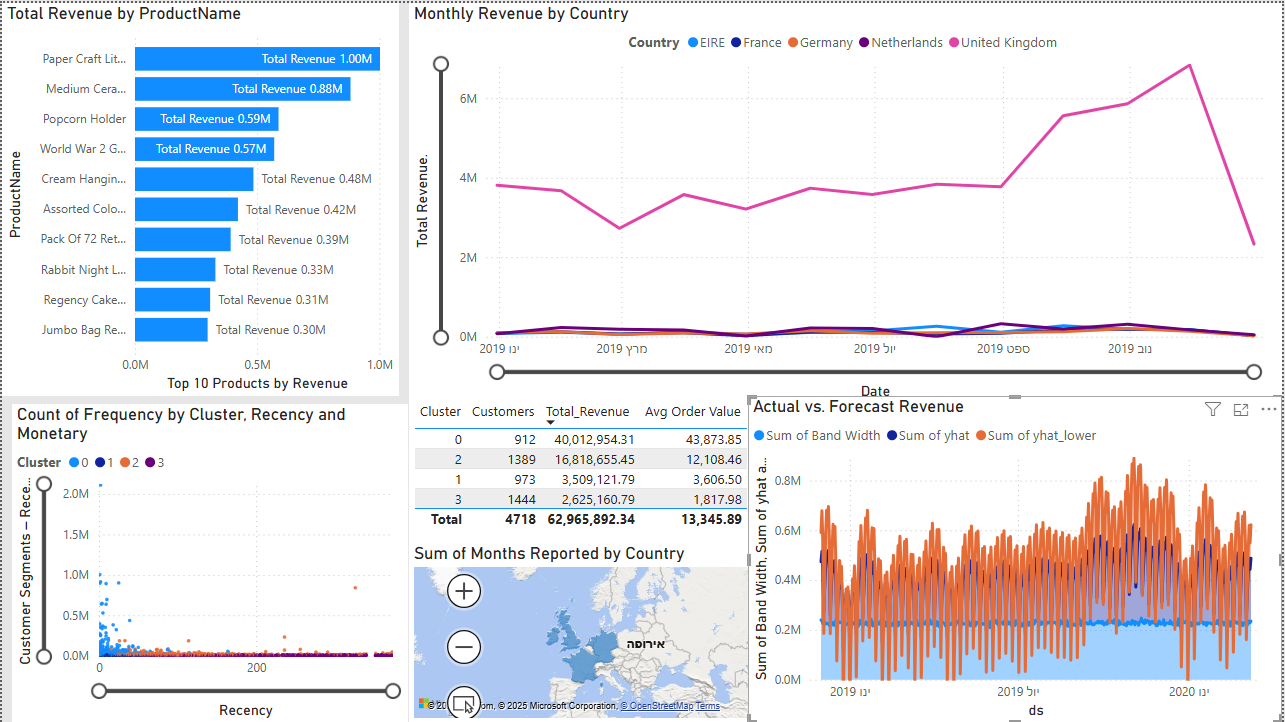

This screenshot's page, from the dashboard's own definition file:
{"tool":"powerbi","page":{"name":"Dashbord of Bussiness Analytics ","canvas":[1280,720],"ordinal":0},"visuals":[{"type":"clusteredBarChart","fields":{"Category":["product_revenue.ProductName"],"Y":["product_revenue.Total Revenue"]},"box":[0,0,396.7,393.1],"z":0},{"type":"lineChart","title":"Monthly Revenue by Country","fields":{"Series":["country_monthly_revenue.Country"],"Y":["country_monthly_revenue.Total Revenue."],"Category":["country_monthly_revenue.Date"]},"box":[406.6,0,873.4,400.7],"z":1000},{"type":"scatterChart","fields":{"X":["customer_segments.Recency"],"Y":["customer_segments.Monetary"],"Series":["customer_segments.Cluster"],"Size":["CountNonNull(customer_segments.Frequency)"]},"box":[9.7,400.7,395.9,319],"z":2000},{"type":"tableEx","fields":{"Values":["customer_segments.Cluster","customer_segments.Customers","customer_segments.Total_Revenue","customer_segments.Avg Order Value"]},"box":[406.6,392.9,346.3,146.9],"z":3000},{"type":"stackedAreaChart","title":"Actual vs. Forecast Revenue","fields":{"Category":["daily_revenue_forecast.ds"],"Y":["Sum(daily_revenue_forecast.Band Width)","Sum(daily_revenue_forecast.yhat)","Sum(daily_revenue_forecast.yhat_lower)"]},"box":[746,392.9,534,326.8],"z":4000},{"type":"filledMap","fields":{"Category":["Country Sales.Country"]},"box":[406.6,539.8,346.3,179.9],"z":5000}]}

Visuals, with their boxes in screenshot pixels (x1, y1, x2, y2), scaled from the page's 1280x720 canvas onto the 1285x722 screenshot:
clusteredBarChart - product_revenue.ProductName x product_revenue.Total Revenue: crop(0, 0, 398, 394)
"Monthly Revenue by Country" lineChart: crop(408, 0, 1284, 402)
scatterChart - customer_segments.Recency x customer_segments.Monetary: crop(10, 402, 407, 721)
tableEx - customer_segments.Cluster x customer_segments.Customers: crop(408, 394, 756, 541)
"Actual vs. Forecast Revenue" stackedAreaChart: crop(749, 394, 1284, 721)
filledMap - Country Sales.Country: crop(408, 541, 756, 721)
